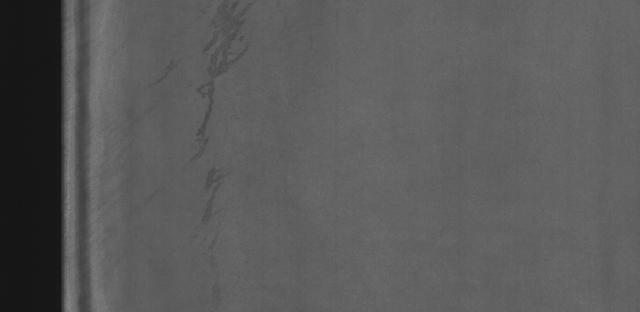water_spot: (174, 2, 279, 230)
